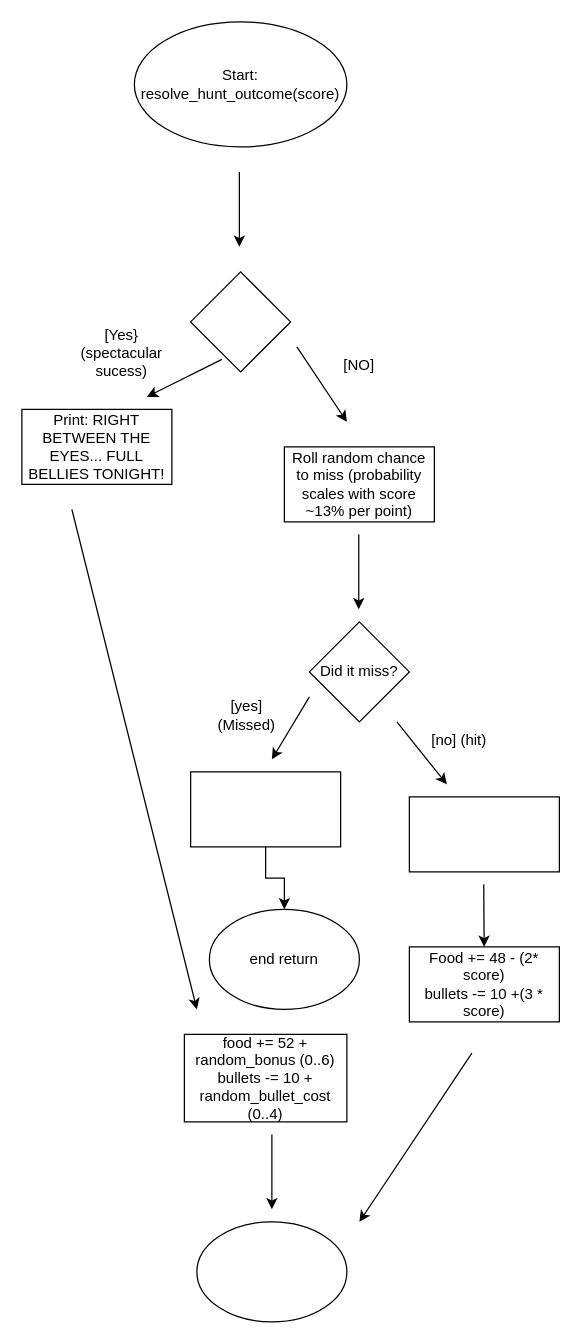
This 581x1344 diagram has some shape labels left out. The box of each missing label's shape, as (x1, y1, x2, y2) in pixels:
End / Return: (196, 1221, 347, 1322)
Is score <= 1?: (189, 271, 291, 372)
Print: NICE SHOT --RIGHT ON TARGET -- GOOD EATIN' TONIGHT!!: (408, 796, 559, 872)
Print: YOU MISSED --- AND YOUR DINNER GOT AWAY......: (189, 771, 341, 847)
